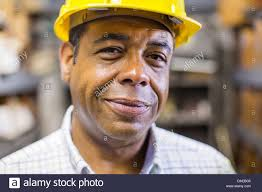Person_wearing_helmet: (50, 0, 204, 65)
